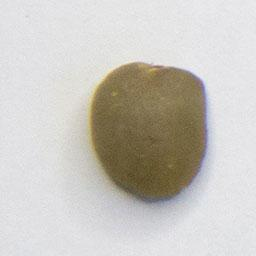premium: (86, 58, 210, 203)
